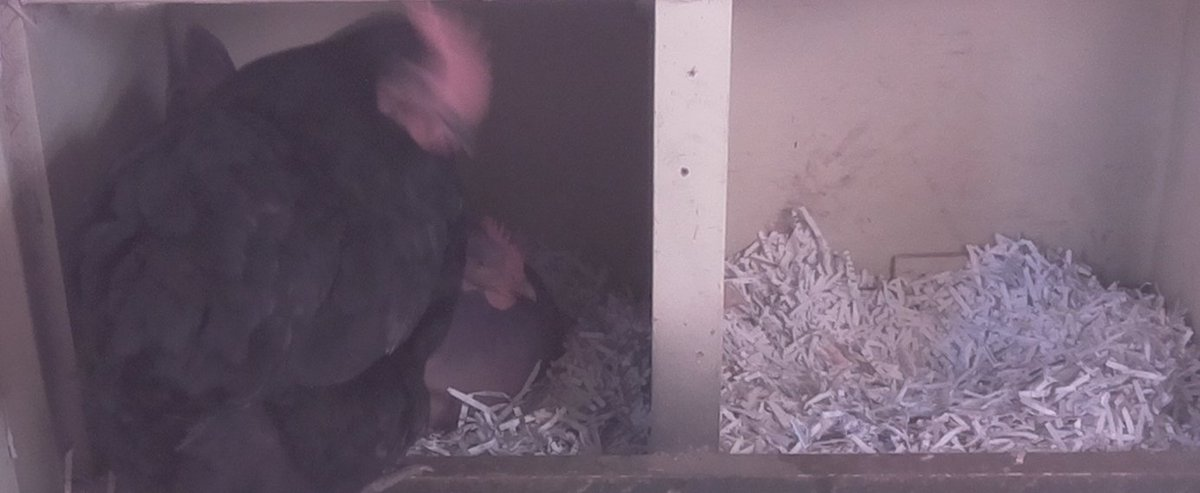hen: (55, 11, 492, 493), (420, 212, 564, 413)
